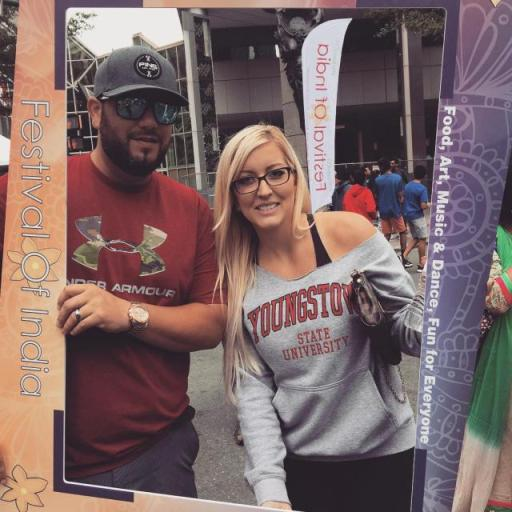Under Armour: (69, 217, 176, 297)
